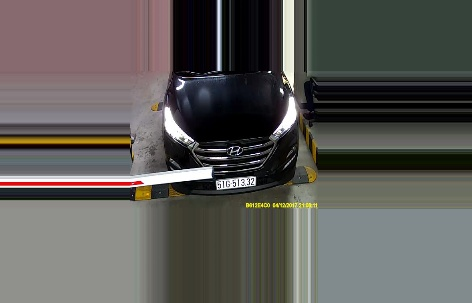plate: (216, 173, 258, 190)
